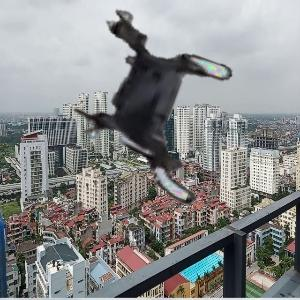drone: (64, 17, 245, 198)
